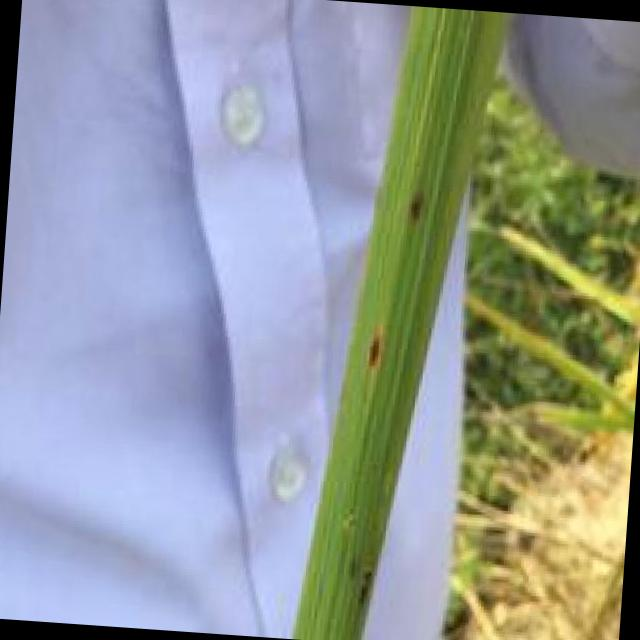Rice_Brownspot: (343, 531, 380, 599), (357, 306, 392, 371), (402, 174, 419, 215)
